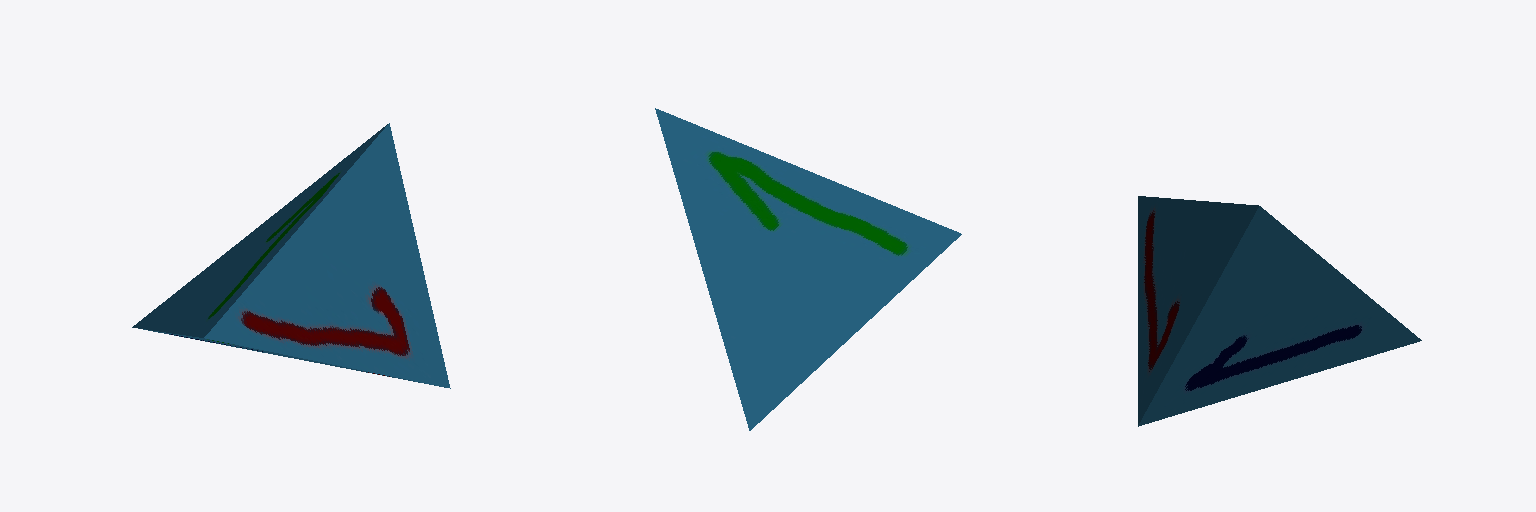
The picture shows the model from 3 angles: view 1: azimuth 30°, elevation 25°; view 2: azimuth 150°, elevation 25°; view 3: azimuth 270°, elevation 25°; orthographic projection.
Visible parts, largest first — view 1: pPyramid1; view 2: pPyramid1; view 3: pPyramid1.
Part boxes in pixels (x1,y1,x2,y2): pPyramid1: (132, 123, 450, 388); pPyramid1: (655, 108, 961, 430); pPyramid1: (1138, 196, 1421, 426).
Bounding box in the file's own units: 0.7 × 0.6 × 0.7.
1 materials, 1 textured.